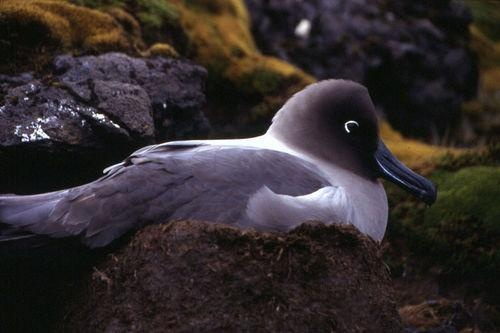bird: (14, 72, 437, 263)
